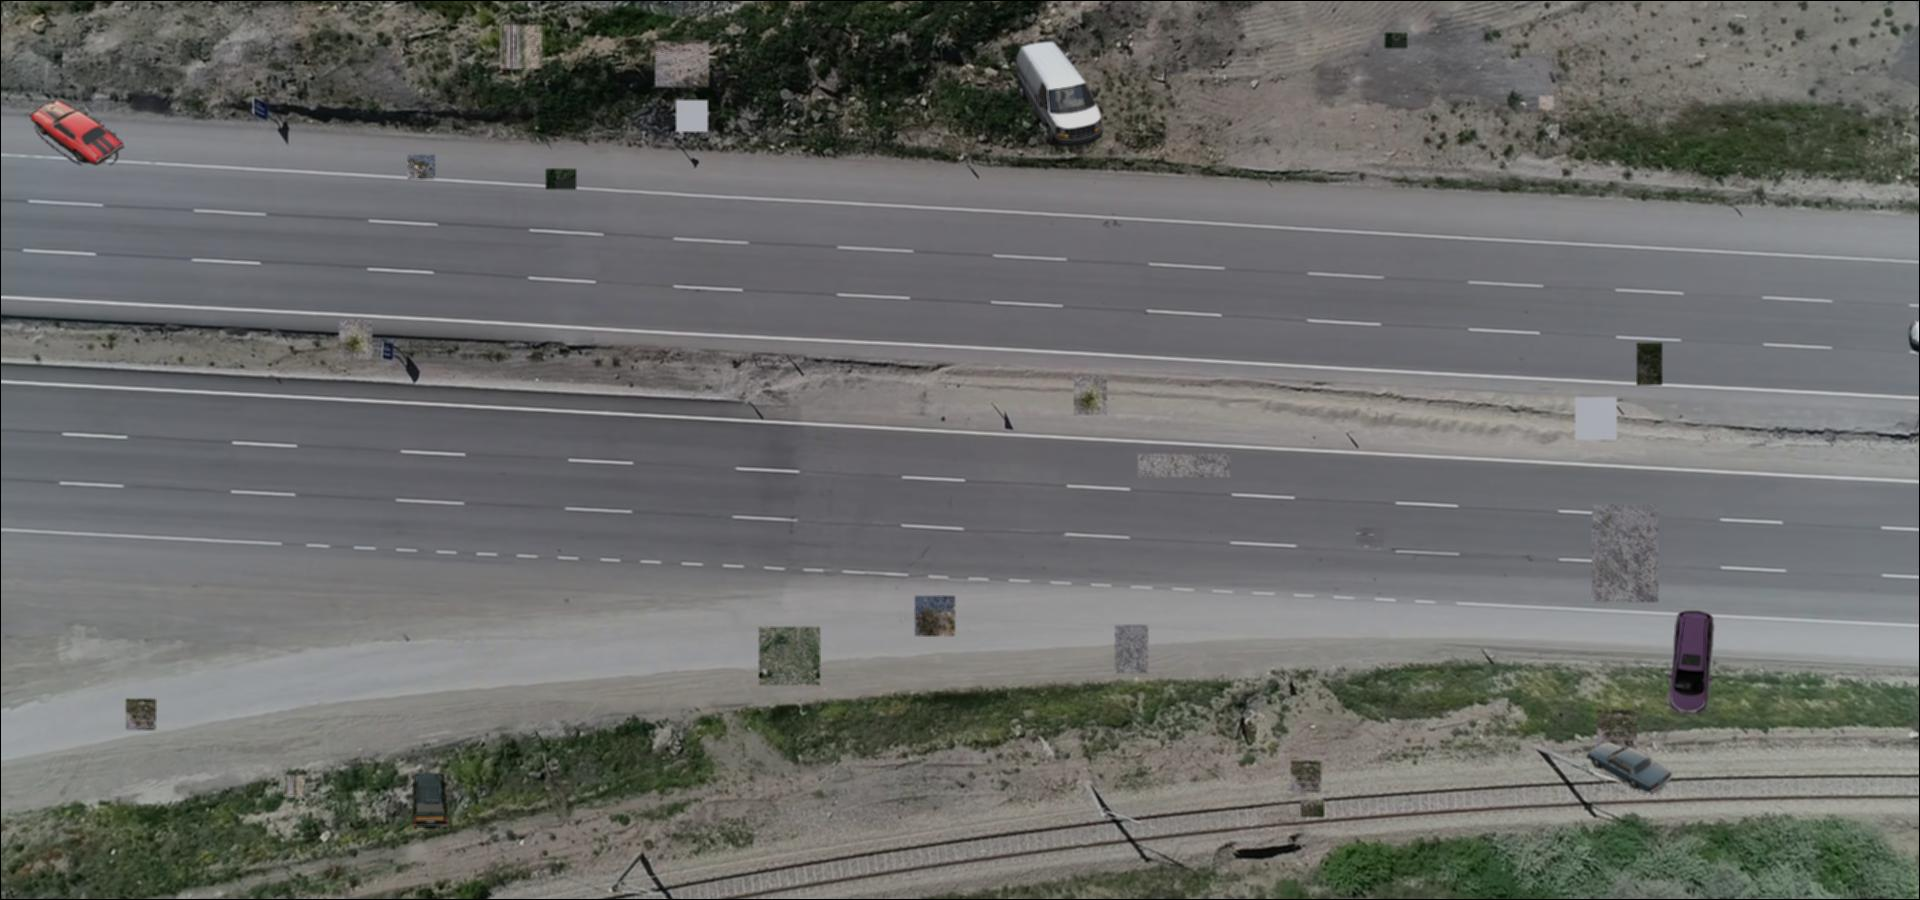arac: (1009, 40, 1107, 146), (28, 97, 125, 165), (1660, 609, 1716, 715), (1583, 741, 1671, 793), (409, 773, 449, 829)
